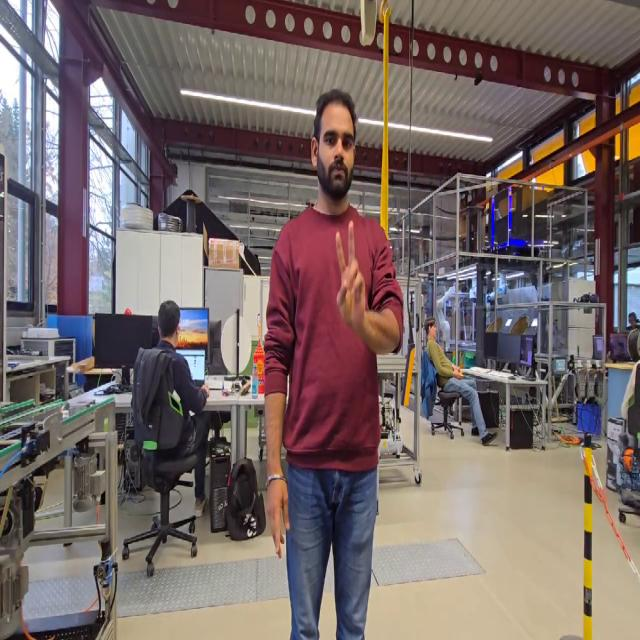v_sign: (332, 217, 368, 338)
